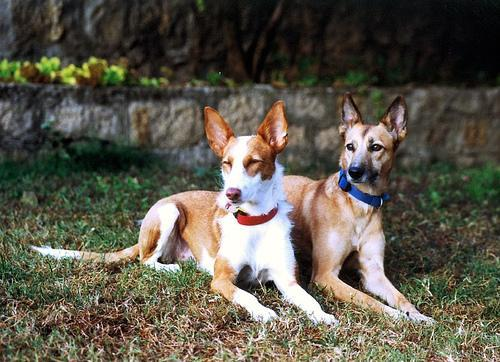Ibizan_hound: (25, 100, 338, 326), (283, 95, 438, 326)
